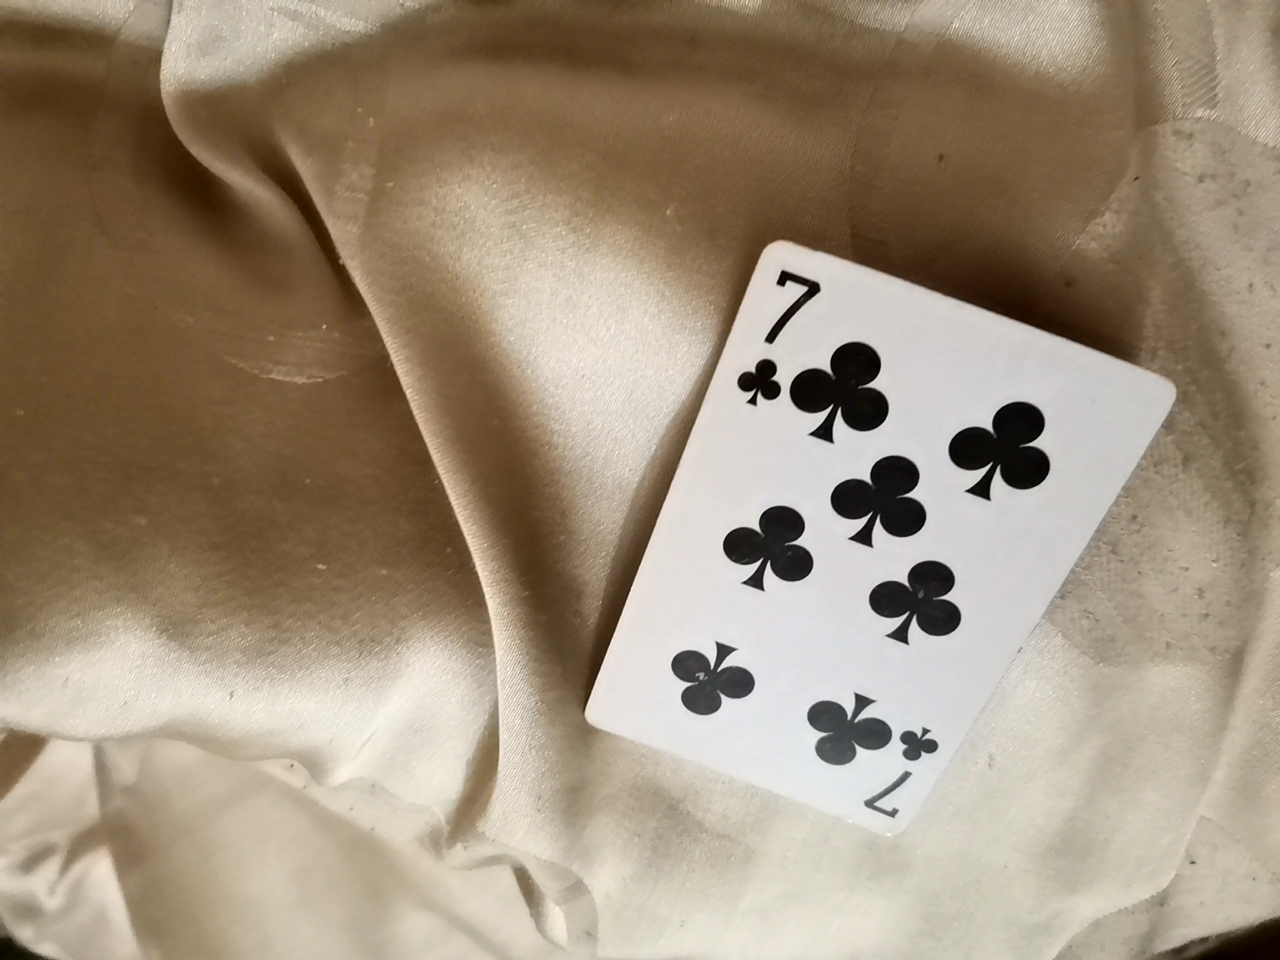mh 7: (581, 242, 1167, 845)
